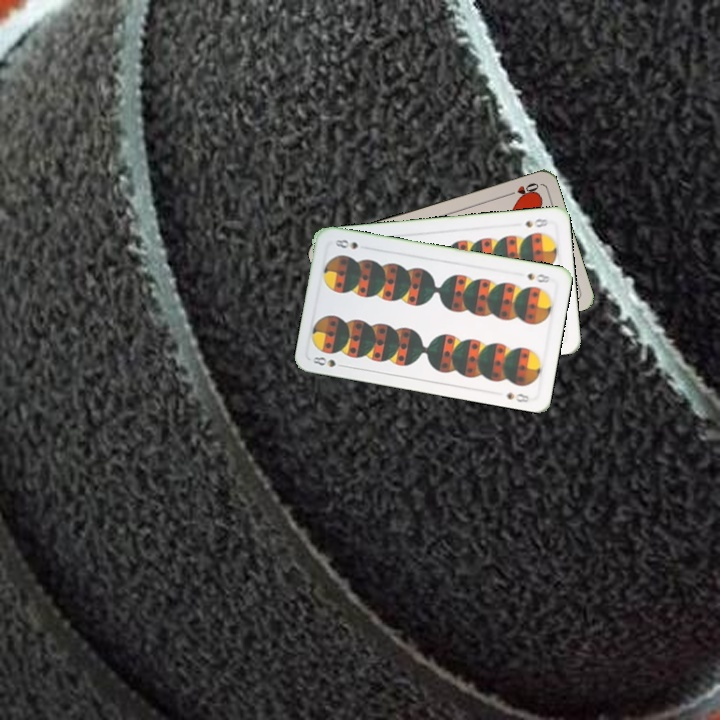HO: (502, 179, 541, 199)
S8: (309, 352, 349, 370), (523, 269, 553, 285), (521, 214, 550, 230)
